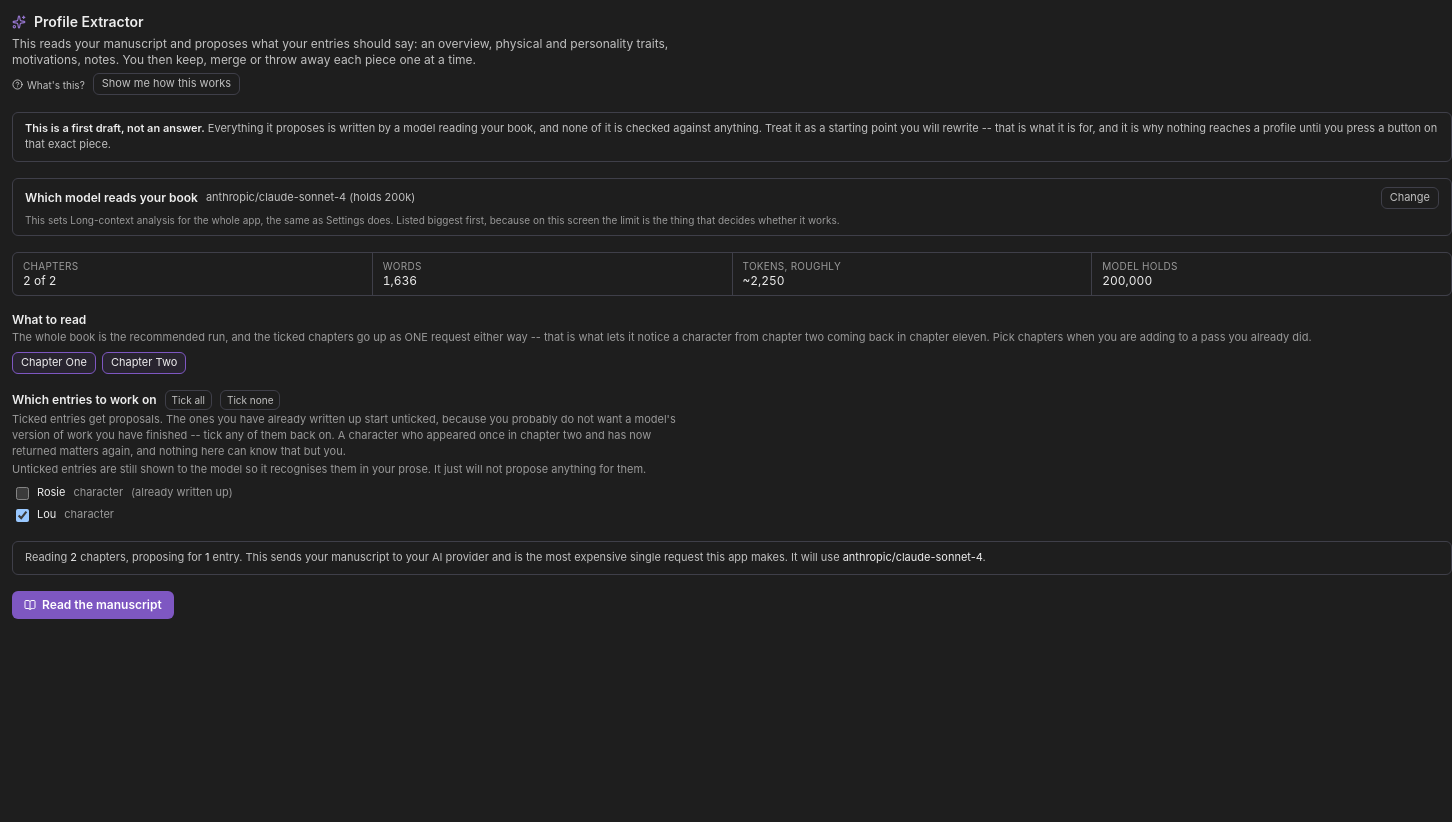
the setup screen › ASKS BEFORE THROWING AWAY PROPOSALS THE WRITER PAID FOR
This screenshot has width=1452, height=822.
Click the button with test id "extractor-run".
click(93, 605)  # box [12,591,174,619]
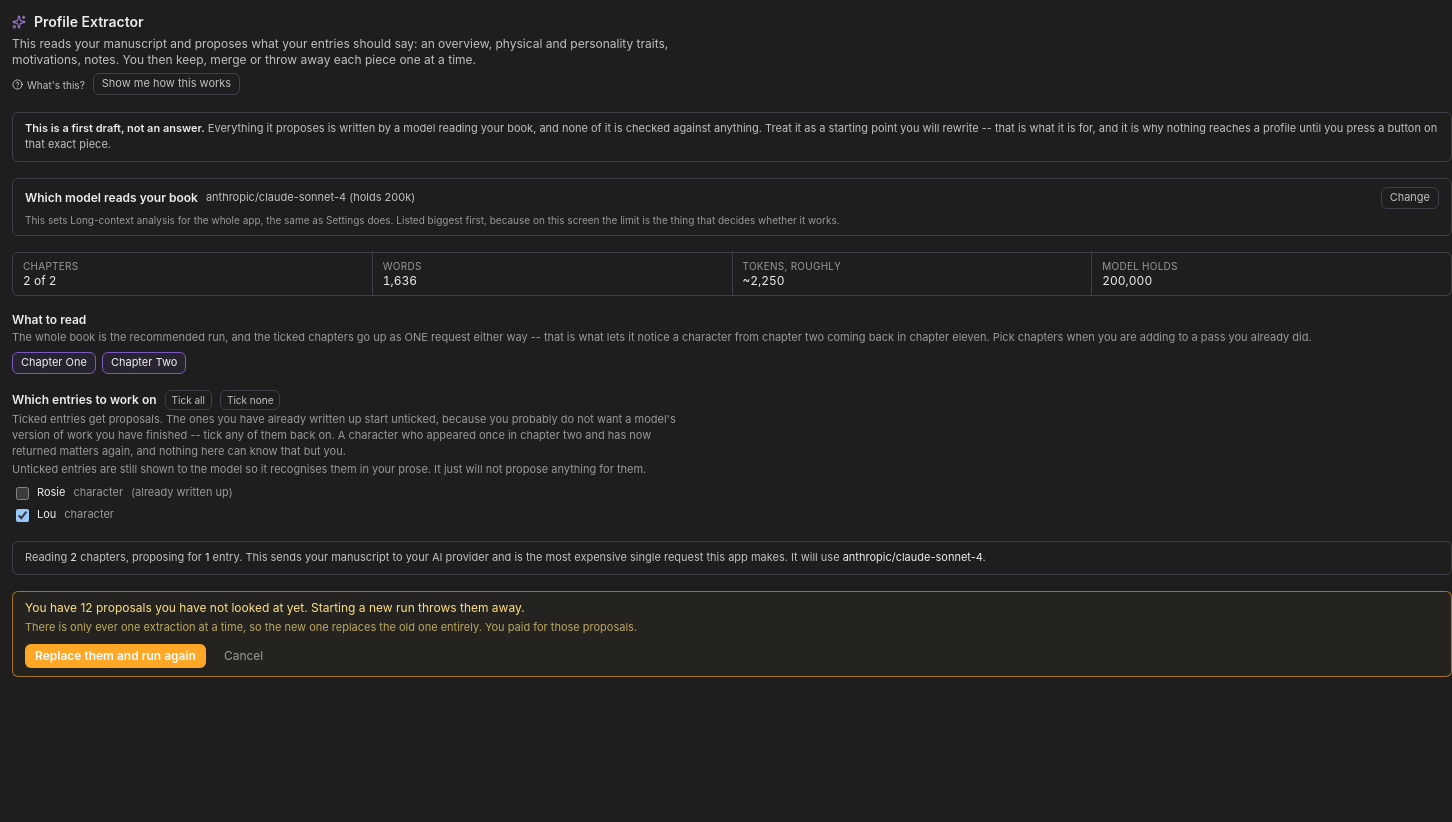
Result: the element with test id "extractor-replace-confirm" shows "12 proposals" at [12,591,1451,677]
Result: the element with test id "extractor-replace-confirm" shows "You paid for those" at [25,620,637,634]
